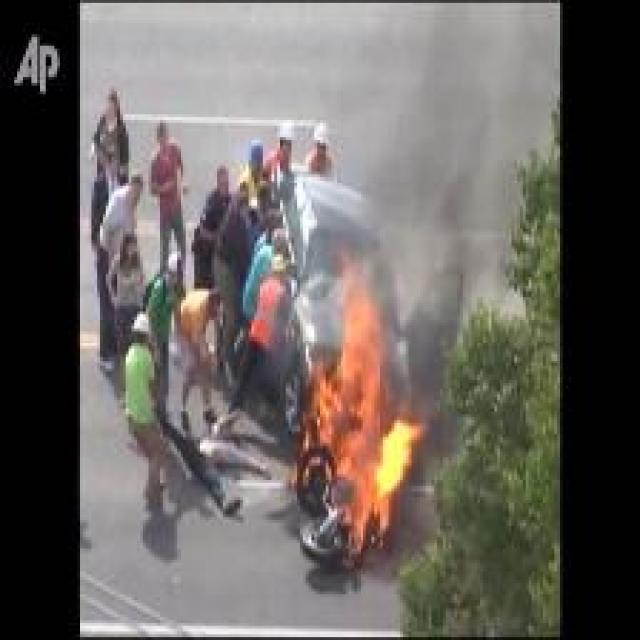Fire: (298, 250, 428, 559)
